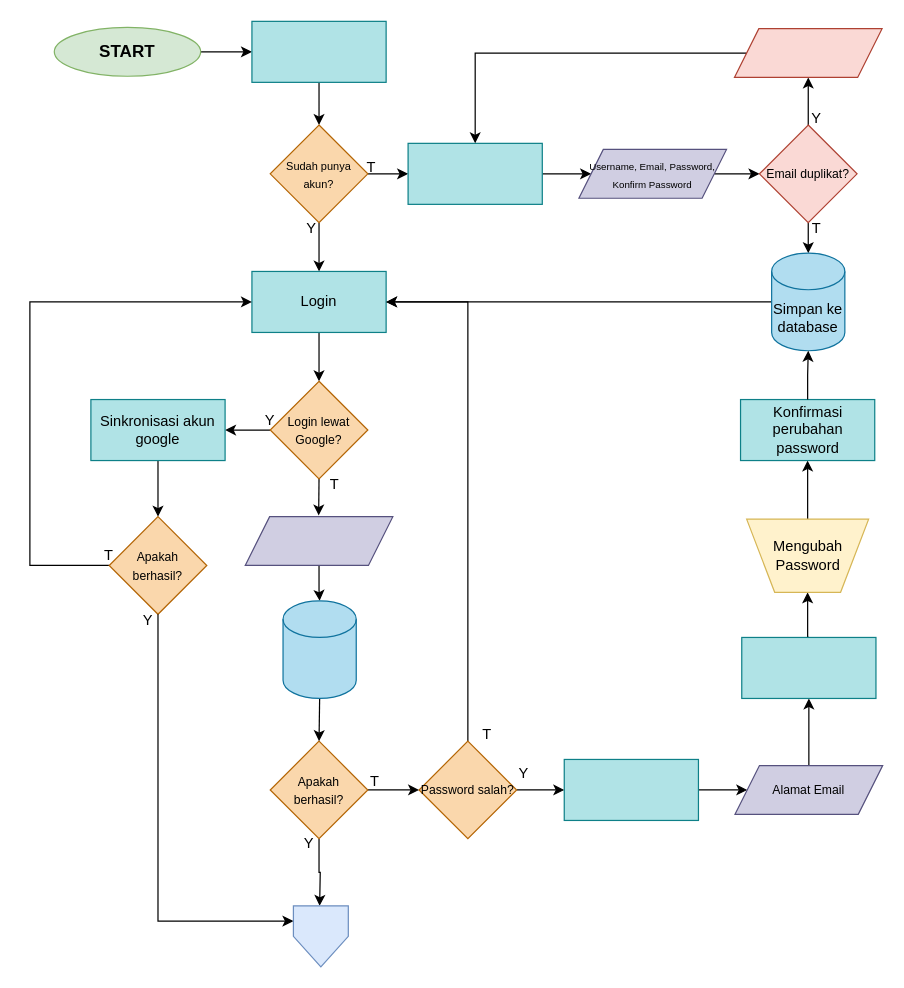
Some shapes in this 904 by 988 pixel diagram are drawn without their labels. Here are the shapes that lost their labels. From the top down, the centre of each, then its label:
point 318,51: Halaman Awal
point 807,52: Error "Email sudah pernah digunakan"
point 474,173: Registrasi
point 318,540: Email/Username & Password
point 319,649: Cek dengan database
point 808,667: Mengirim pesan email untuk ganti password
point 630,789: Halaman lupa password
